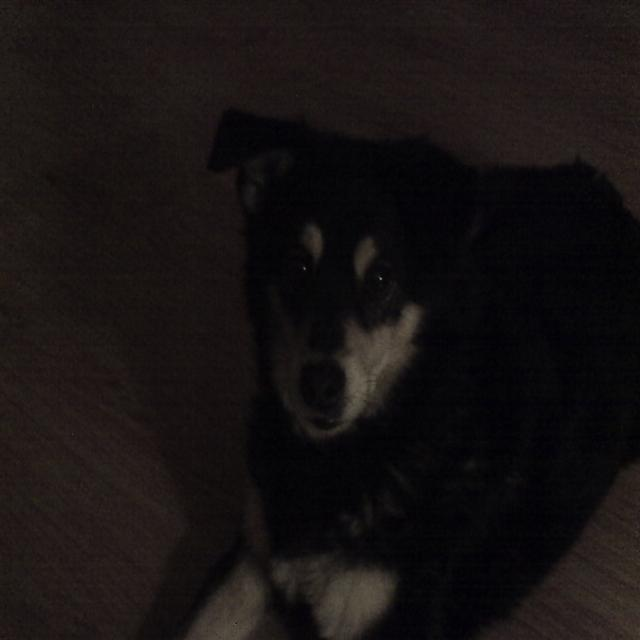dog: (180, 76, 640, 639)
